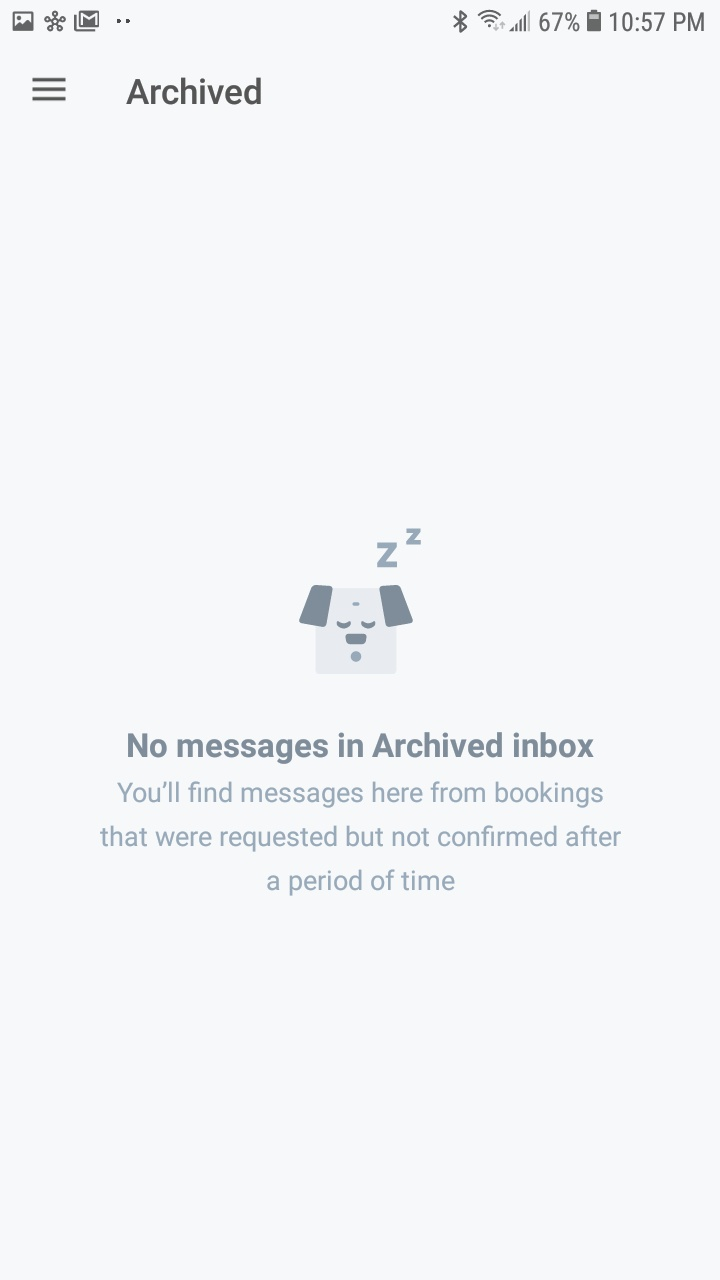Icon: (32, 77, 68, 103)
Image: (299, 528, 422, 675)
Text: (100, 781, 621, 897), (128, 732, 594, 765), (126, 77, 262, 106)
UpperTaskBar: (1, 1, 720, 43)
